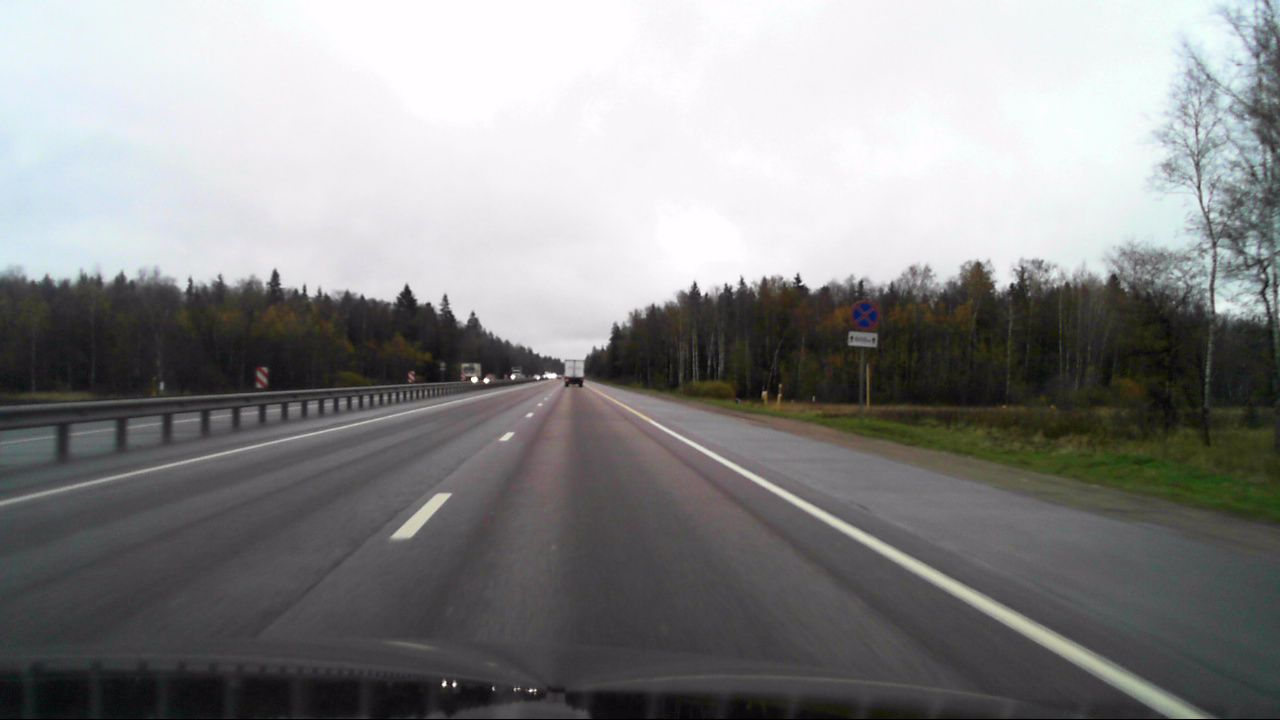No Parking: (850, 300, 880, 329)
